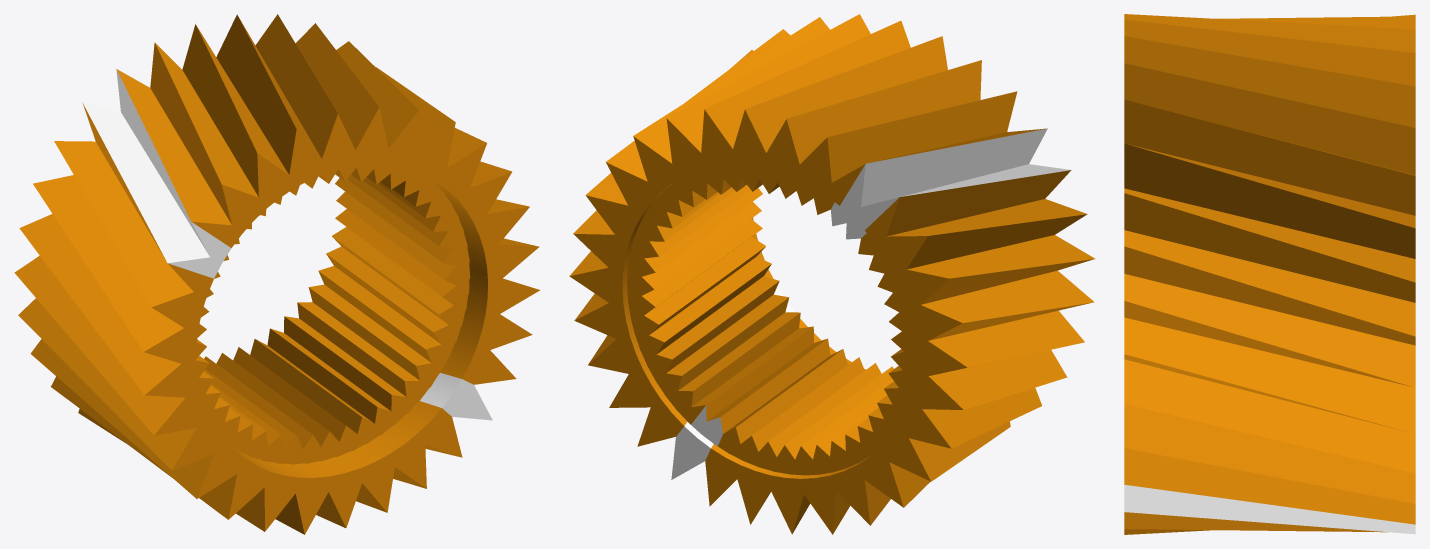
3 views of the same model, side by side, from view 1: azimuth 30°, elevation 25°; view 2: azimuth 150°, elevation 25°; view 3: azimuth 270°, elevation 25° (orthographic). The views are drawn at different scales.
Parts seen in each view (by area): view 1: 697; view 2: 697; view 3: 697.
Boxes of the visible parts, box(x1,y1,x2,y2) form: 697: box(14, 14, 540, 534); 697: box(569, 14, 1095, 534); 697: box(1124, 14, 1415, 534).
Bounding box in the file's own units: 546 × 545 × 305.
